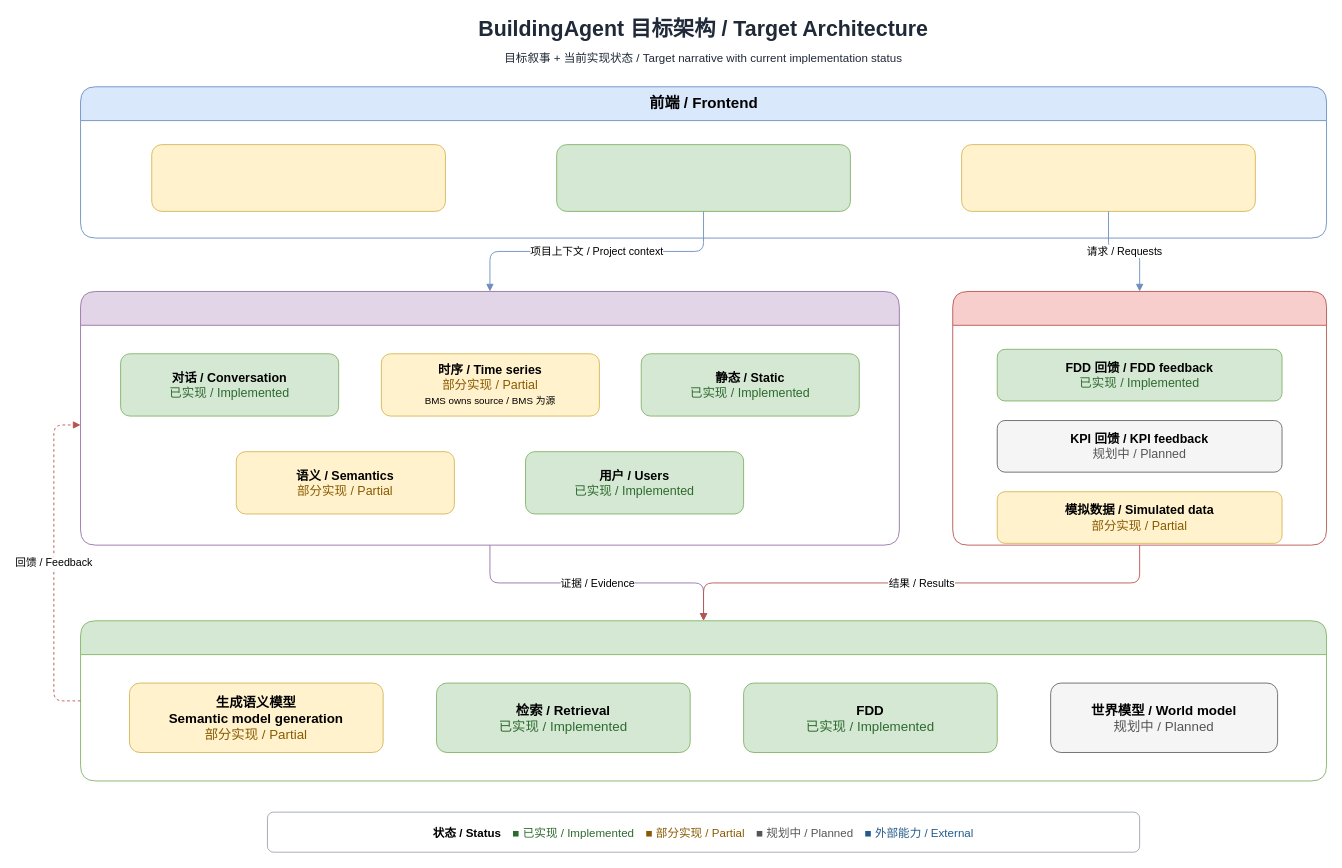
Image size: 1342x868. Some labels were removed from this diagram. Each missing label, with the box of its shape:
业务 / Business: (80, 620, 1327, 781)
后台 / Backend: (952, 291, 1327, 545)
数据 / Data: (80, 291, 899, 545)
模型可视化 Model visualization 部分实现 / Partial: (961, 144, 1255, 211)
自定义面板 Custom panels 部分实现 / Partial: (151, 144, 445, 211)
自然语言对话 Natural-language chat 已实现 / Implemented: (556, 144, 850, 211)
